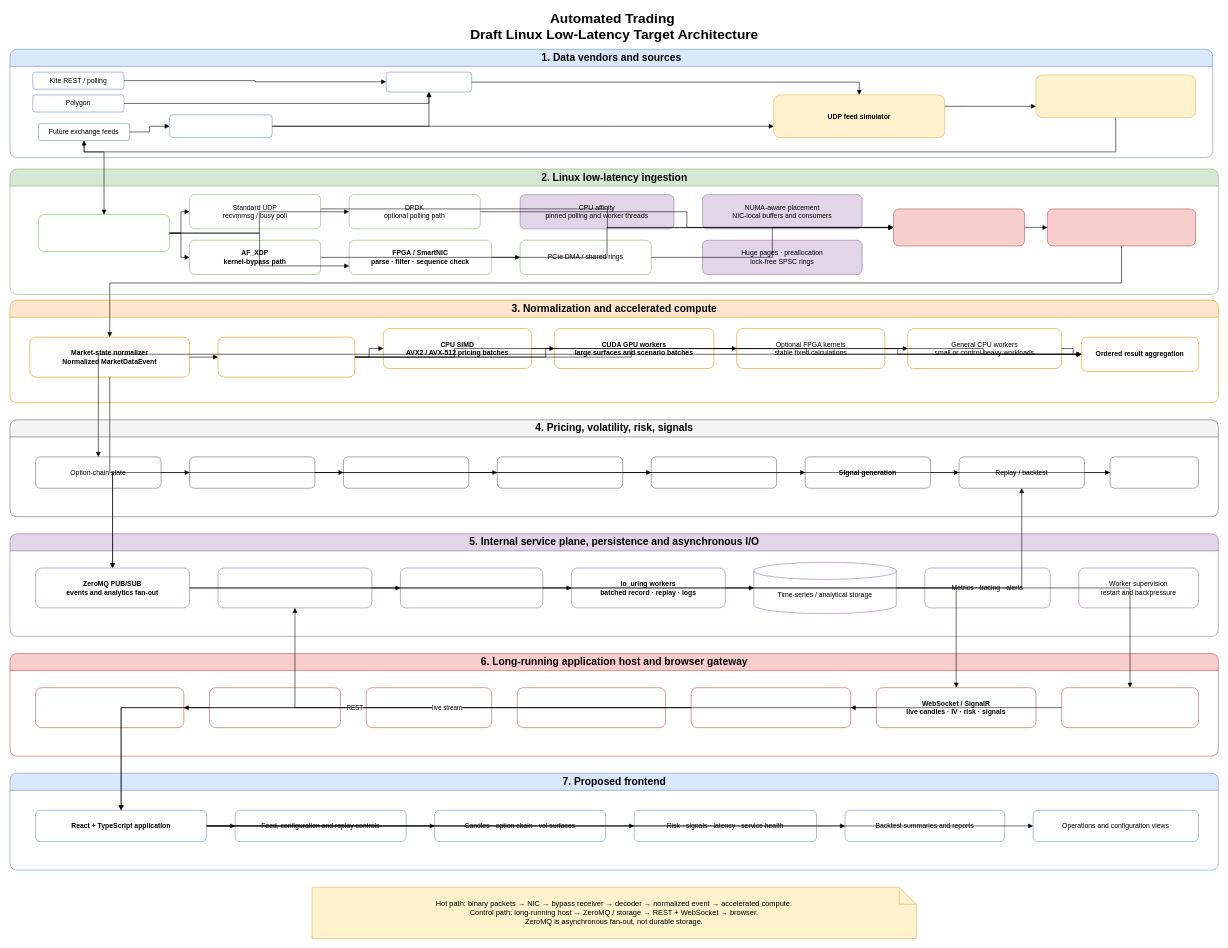
Some shapes in this 1228 by 948 pixel diagram are drawn without their labels. The shapes that lost their labels are listed below. From the top down, each one's centre as x and y in pixels, then its label:
At [429,82]: "Vendor adapters".
At [1115,96]: "Versioned binary wire protocol".
At [220,126]: "JSONL / PCAP / historical data".
At [104,233]: "NIC queues / RSS hardware timestamps".
At [959,227]: "IMarketDataTransport".
At [1121,227]: "Packet decoder validate · timestamp · gap detect".
At [286,357]: "Workload router batching and dispatch".
At [252,472]: "Pricing and Greeks".
At [406,472]: "Implied volatility".
At [560,472]: "Volatility surface".
At [714,472]: "Risk and scenarios".
At [1154,472]: "Analytics results".
At [294,587]: "Command channel start · stop · configure · replay".
At [471,587]: "Recorder service validated JSONL / PCAP".
At [109,707]: "Lifecycle manager start · run · drain · stop".
At [275,707]: "Configuration and secrets".
At [429,707]: "Health and readiness".
At [591,707]: "Authentication / authorization".
At [771,707]: "REST API config · history · backtests · health".
At [1129,707]: "Query cache / downsampling".
